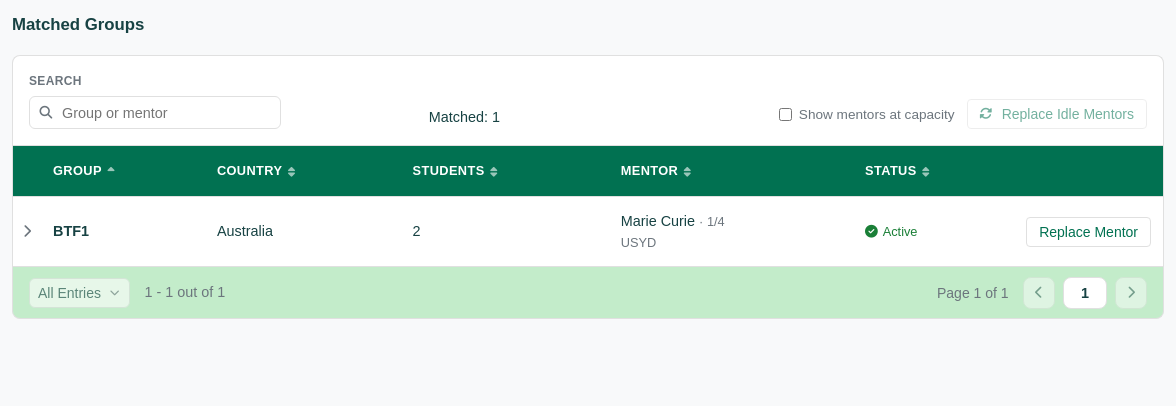
Test case: MatchedGroupsPanel › reports a post-replace refresh failure as a stale list, not a failed replace
Click the button "Replace Mentor" at x=1089, y=232, box 1026,217 -> 1151,247
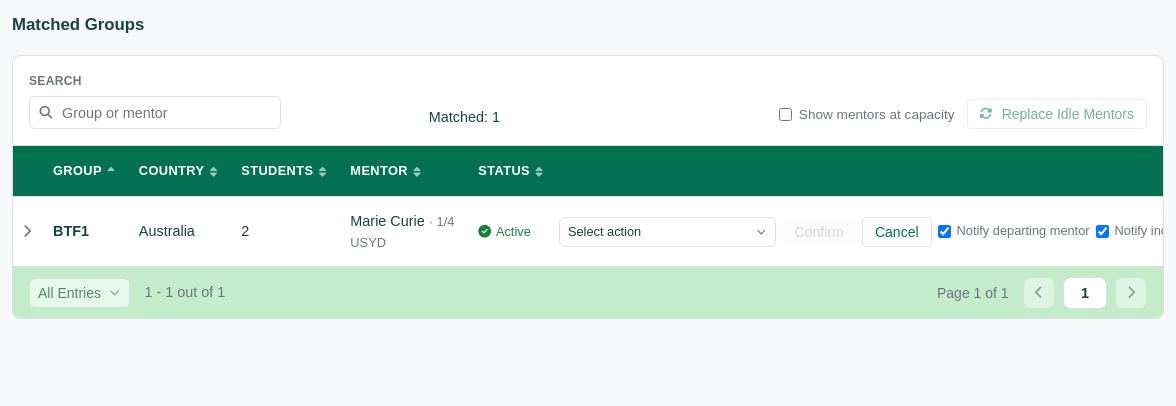
Press the mouse on the element with class "matched-groups__replace-select" at x=668, y=232, box 559,217 -> 776,247
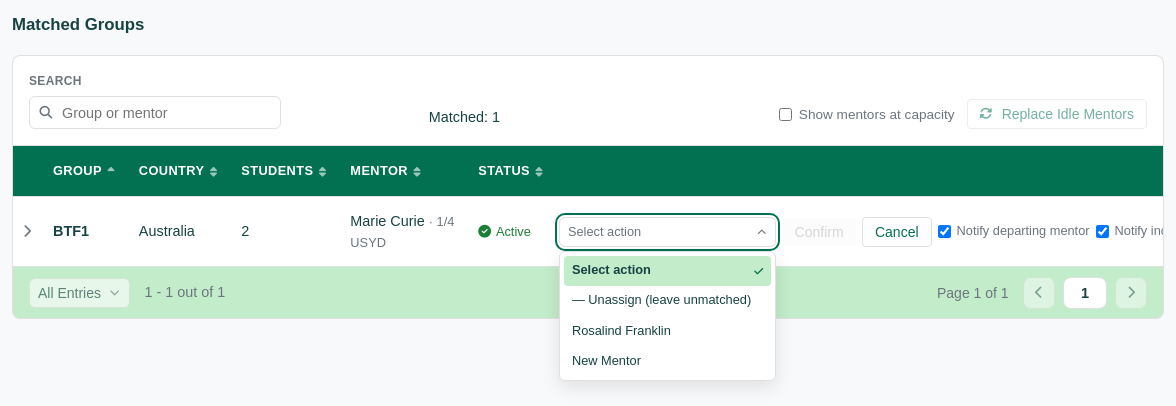
Press the mouse on the option "Rosalind Franklin" at x=621, y=330, box 572,322 -> 671,338
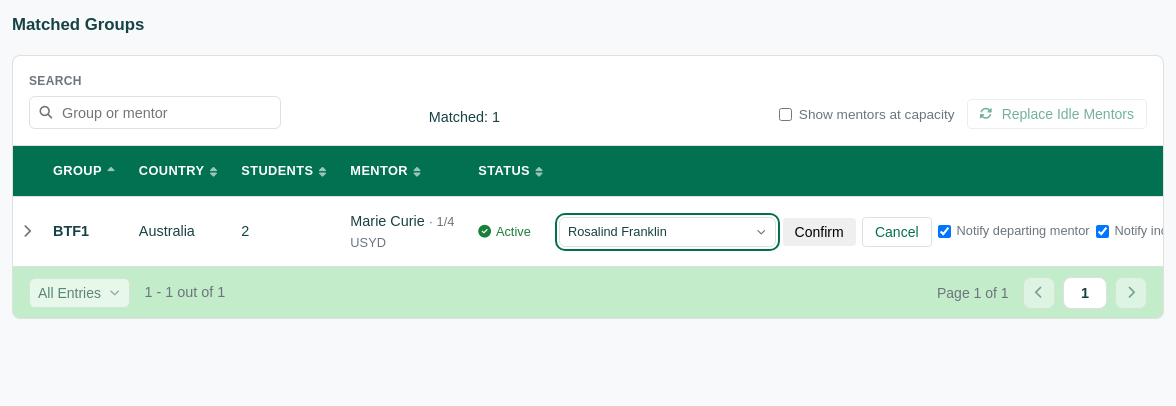
Click the button "Confirm" at x=819, y=232, box 783,218 -> 856,246
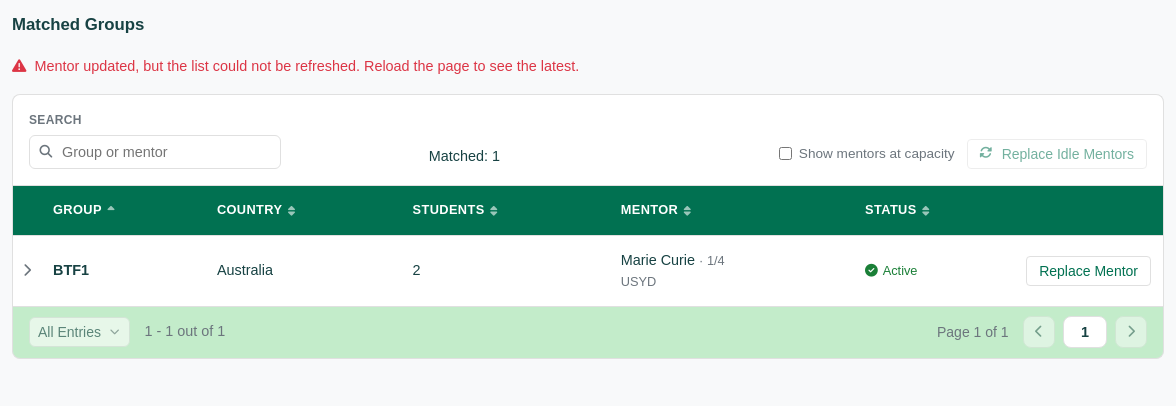
expect the text "Mentor updated, but the list could not be refreshed" is shown: met, box 34,58 -> 579,74
